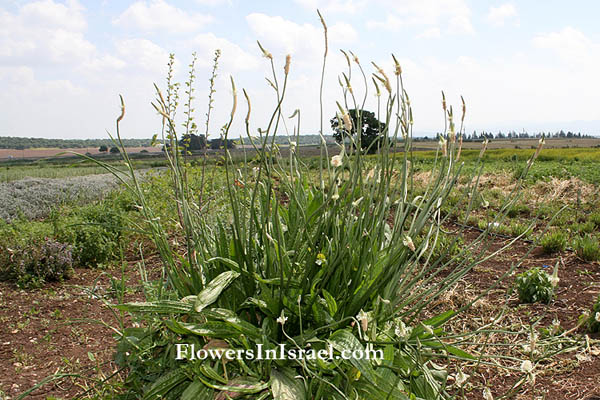buckhorn plantain: (120, 4, 522, 347)
